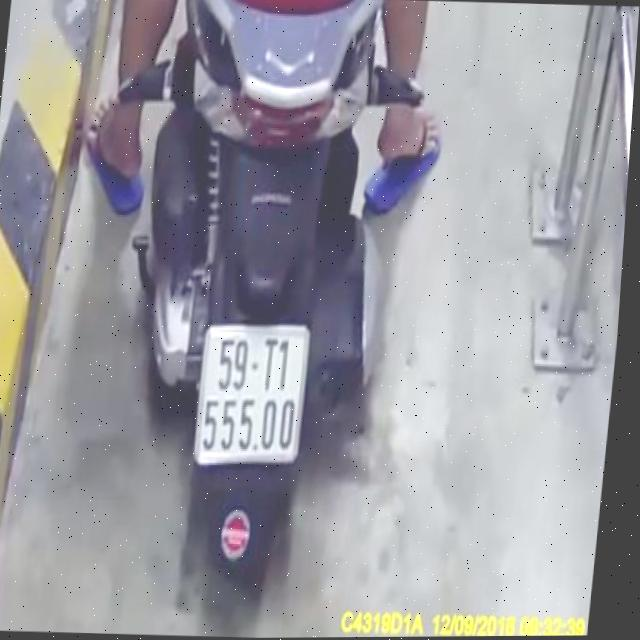motorcycle: (103, 0, 409, 623)
plate: (191, 320, 312, 468)
